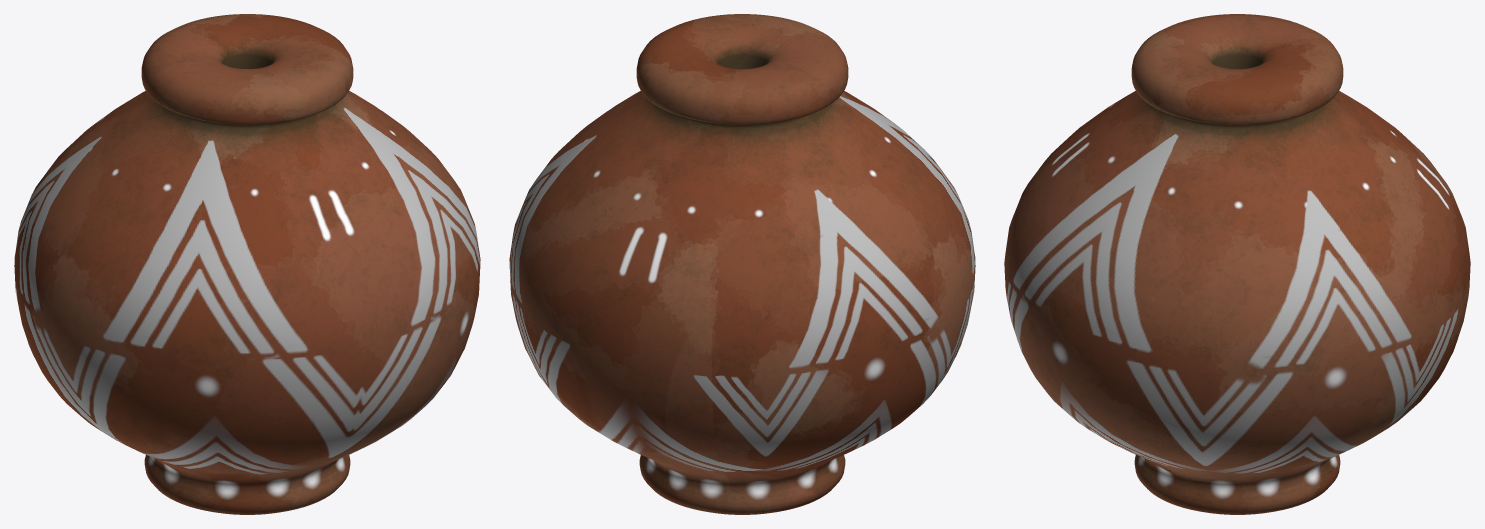
Rendered from HarryPotter.fbx.
The picture shows the model from 3 angles, left to right: view 1: azimuth 30°, elevation 25°; view 2: azimuth 150°, elevation 25°; view 3: azimuth 270°, elevation 25°; orthographic projection.
Parts seen in each view (by area): view 1: Plane.002; view 2: Plane.002; view 3: Plane.002.
Boxes of the visible parts, x1,y1,x2,y2 form: Plane.002: (14,14,480,514); Plane.002: (509,14,975,514); Plane.002: (1004,14,1470,514).
Bounding box in the file's own units: 68.17 × 69.81 × 68.17.
